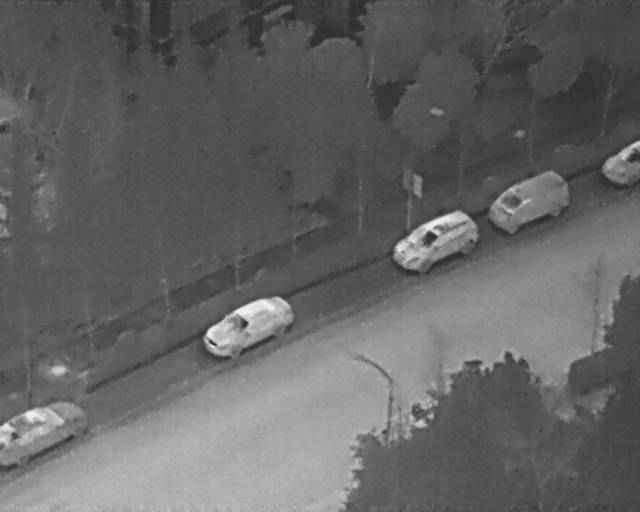Car: (198, 285, 301, 369), (484, 158, 581, 246), (384, 200, 484, 285), (1, 403, 88, 464), (603, 141, 638, 188)
